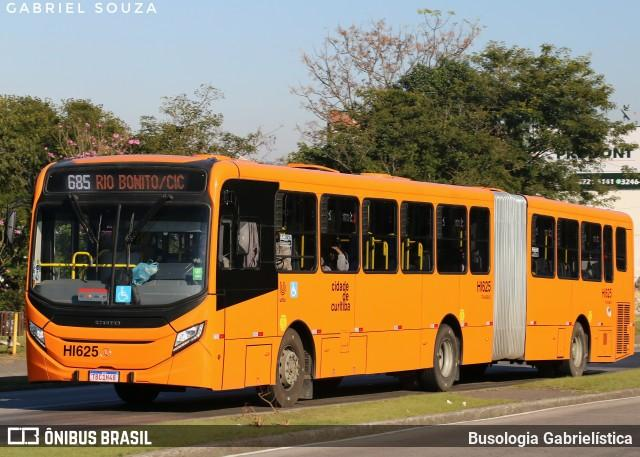RIO BONITO CIC: (92, 172, 189, 192)
